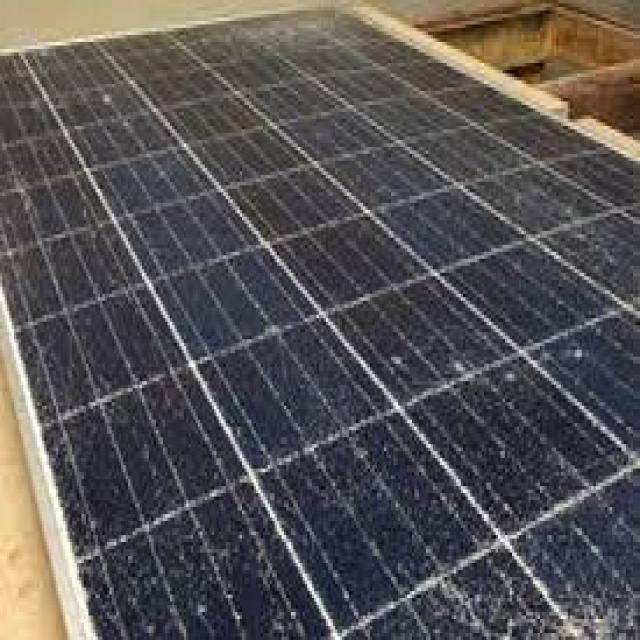Anomaly Solar Panel: (1, 6, 637, 638)
Structural Damage: (462, 560, 640, 640)
